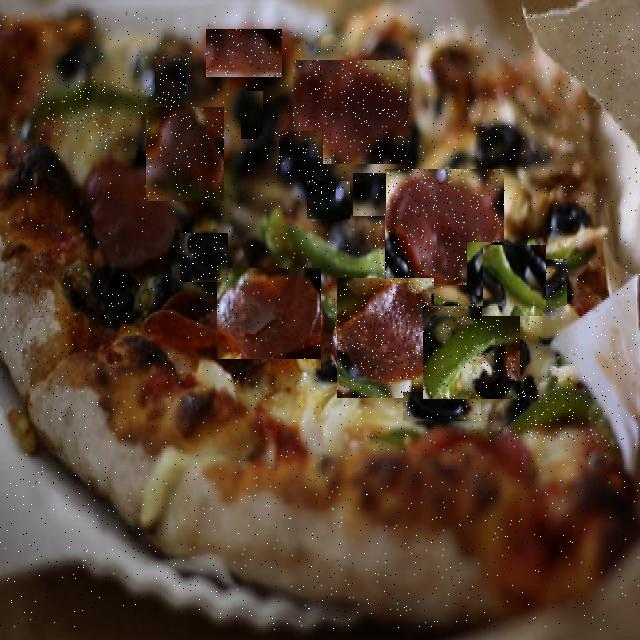Green Pepper: (424, 306, 522, 399), (274, 205, 374, 284), (30, 78, 150, 142), (287, 212, 384, 284), (514, 376, 598, 442), (483, 245, 546, 316)
Olives: (467, 242, 512, 296), (180, 233, 228, 282), (403, 392, 481, 421), (474, 118, 516, 168), (279, 132, 323, 178), (527, 260, 567, 308), (548, 199, 590, 242), (155, 54, 188, 107), (438, 301, 468, 358), (307, 182, 350, 220), (104, 274, 134, 324), (353, 173, 386, 216), (241, 91, 263, 139)
Pepperoni: (385, 169, 504, 285), (294, 60, 409, 164), (337, 278, 434, 398), (80, 159, 170, 270), (217, 268, 321, 359), (146, 107, 224, 201), (142, 298, 221, 353), (206, 29, 282, 77)
Pizza: (0, 12, 640, 630)
